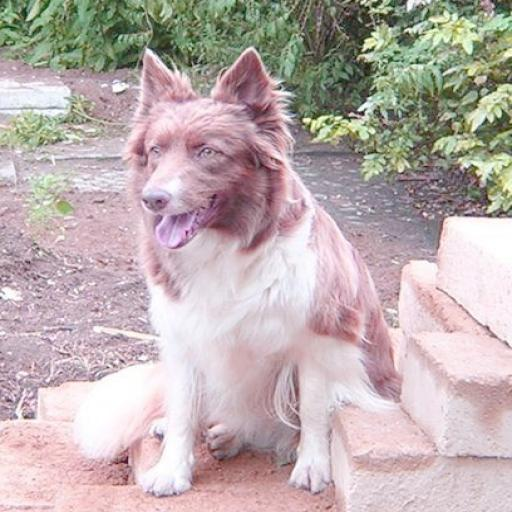dog_face: (122, 47, 288, 251)
